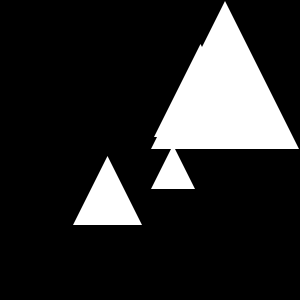triangle: (151, 1, 299, 149), (154, 44, 247, 137), (73, 156, 142, 225), (151, 145, 195, 189)
